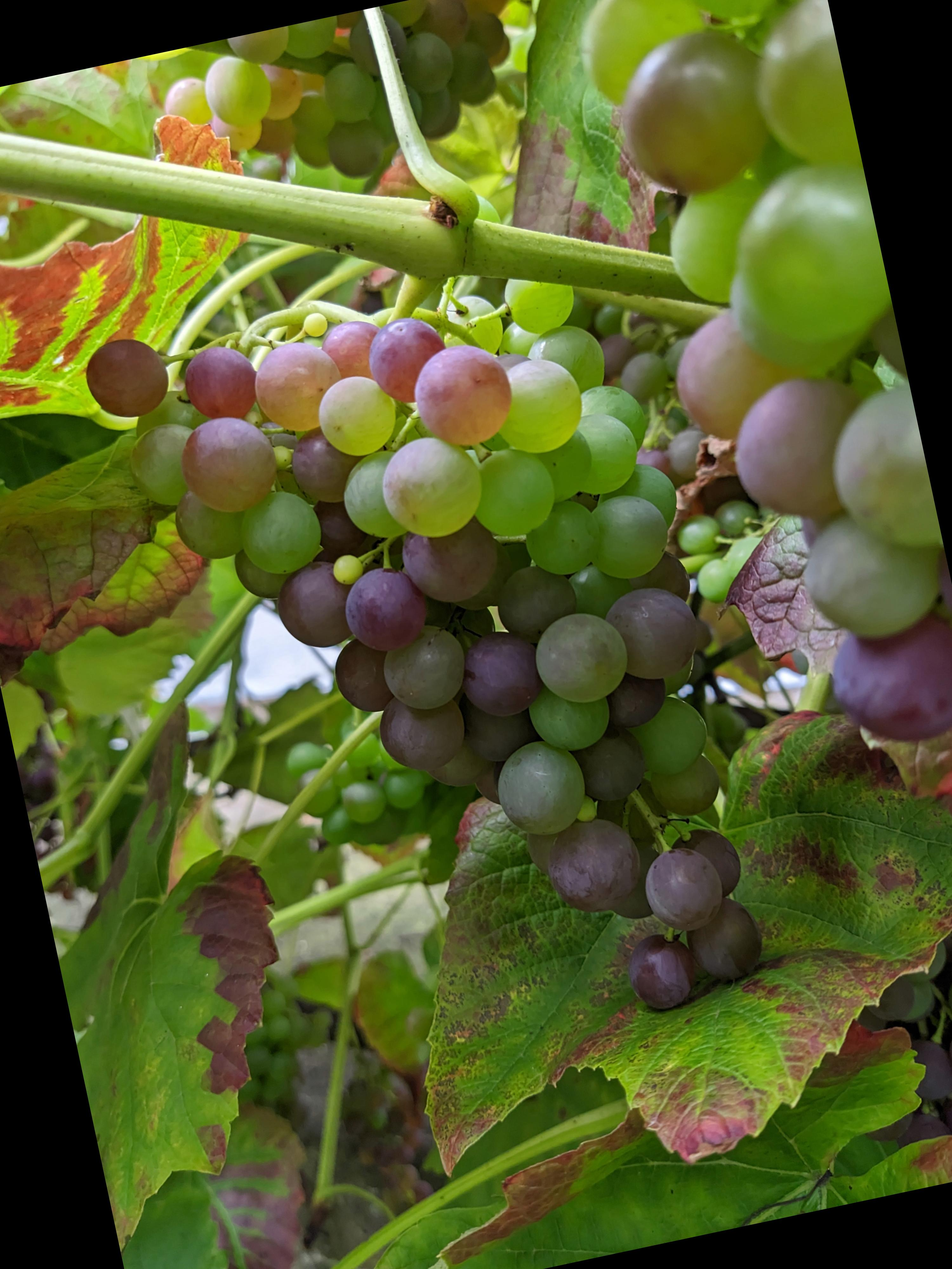Grape Unripe: (0, 333, 667, 1210), (446, 22, 882, 960), (40, 86, 431, 327), (741, 1014, 952, 1269)
